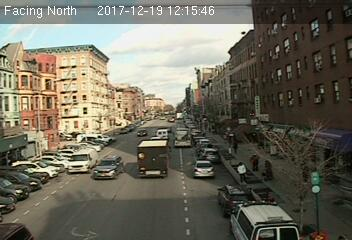car: (219, 183, 254, 217), (92, 156, 125, 180), (192, 160, 216, 179), (198, 147, 218, 161)
pedestrian: (261, 159, 276, 181), (237, 159, 249, 183)
police: (224, 197, 302, 240)
truck: (68, 148, 97, 173), (175, 127, 192, 147)
ups: (136, 139, 170, 178)
